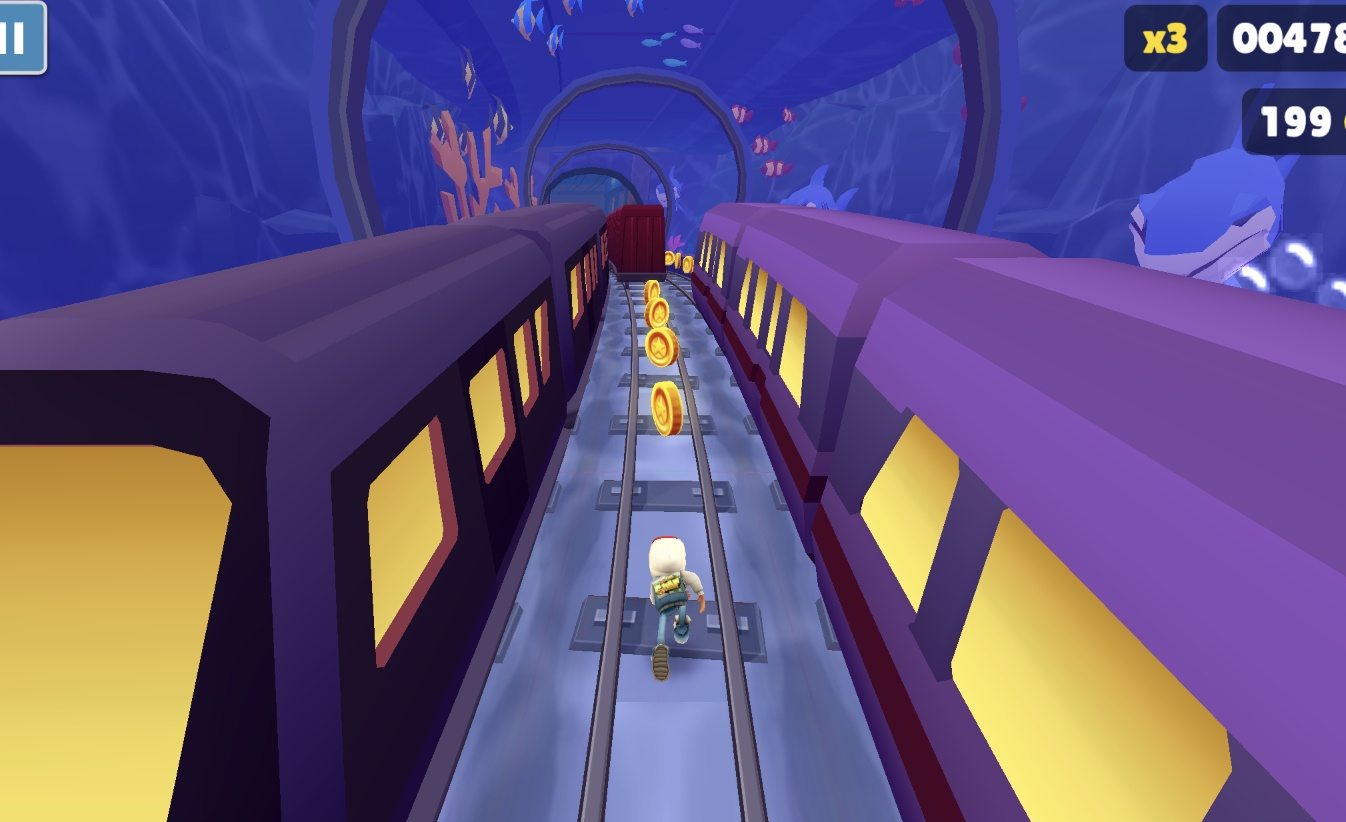train: (690, 202, 1346, 822), (0, 202, 610, 822), (605, 203, 668, 282)
